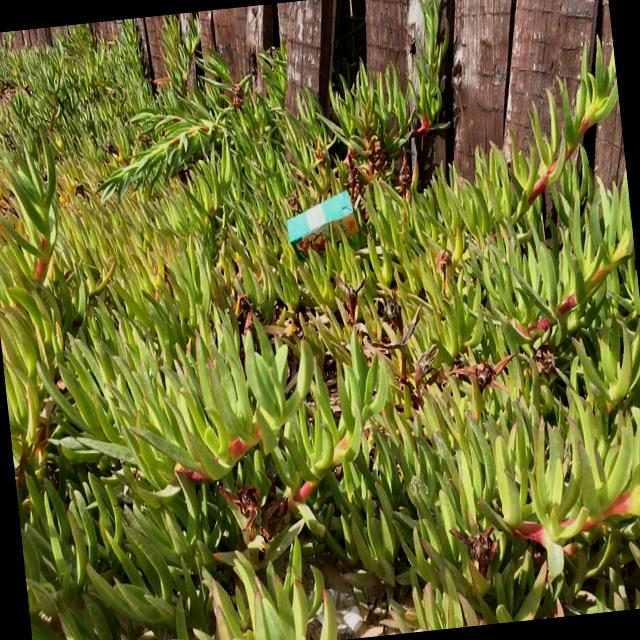Trash: (280, 194, 362, 252)
